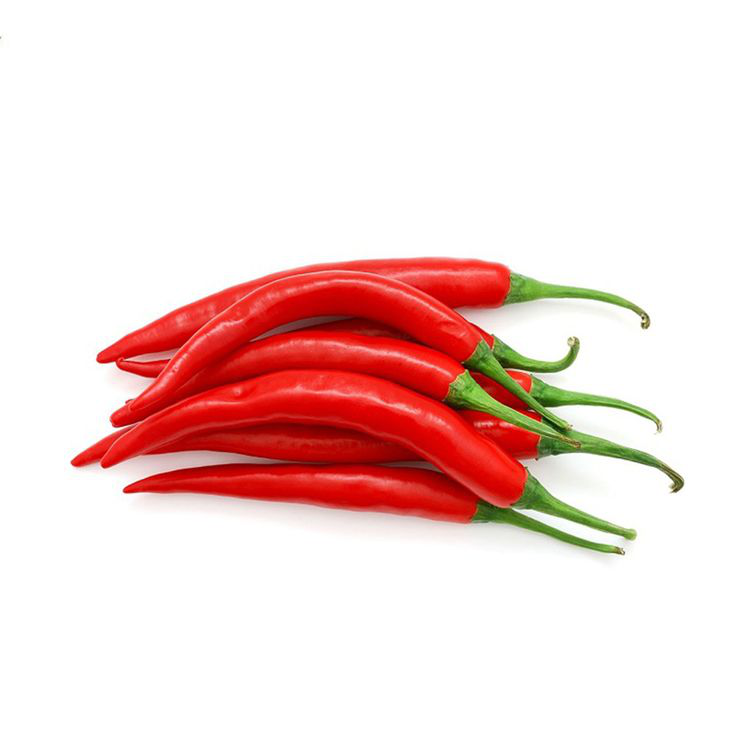Cabai: (96, 195, 683, 613)
